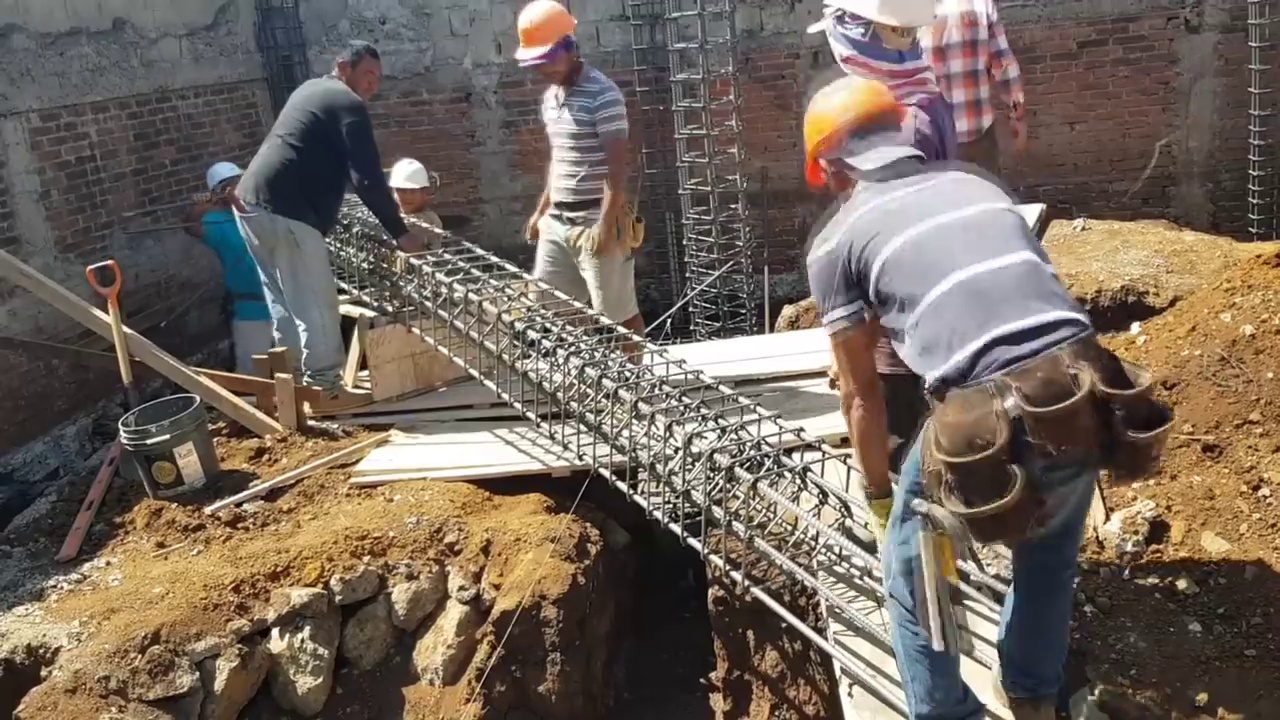helmet: (798, 75, 906, 172), (511, 0, 579, 61), (823, 1, 936, 31), (384, 156, 433, 194), (201, 156, 242, 191)
helmet-off: (323, 41, 382, 100)
helmet-on: (793, 74, 932, 200), (821, 1, 936, 110), (513, 7, 584, 85), (385, 157, 433, 218), (200, 156, 241, 210)
person: (801, 75, 1148, 716), (239, 36, 423, 372), (510, 0, 631, 342), (189, 134, 282, 380), (917, 2, 1031, 170), (384, 155, 442, 250)
